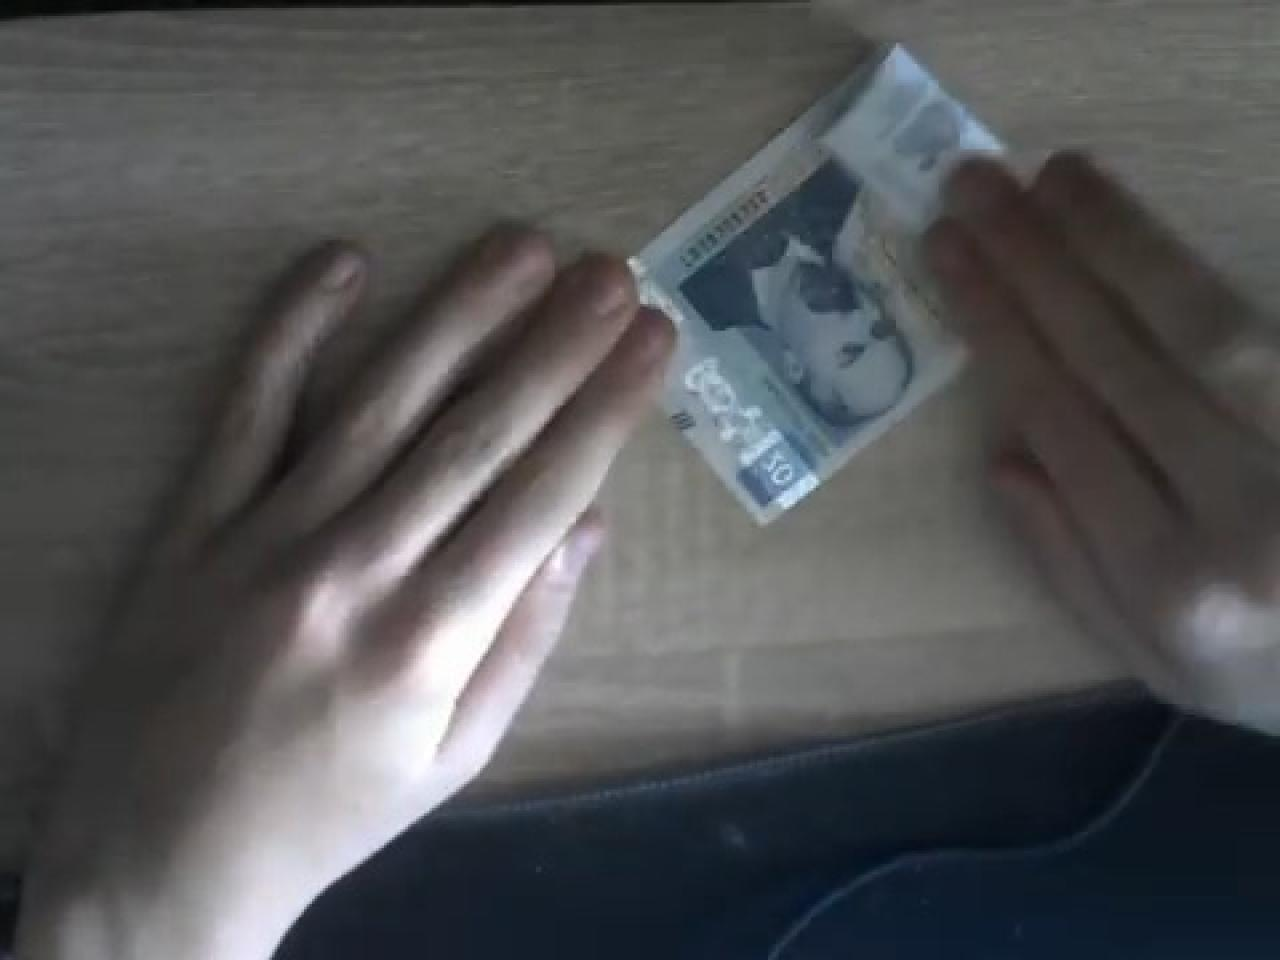20leva: (624, 42, 1008, 530)
